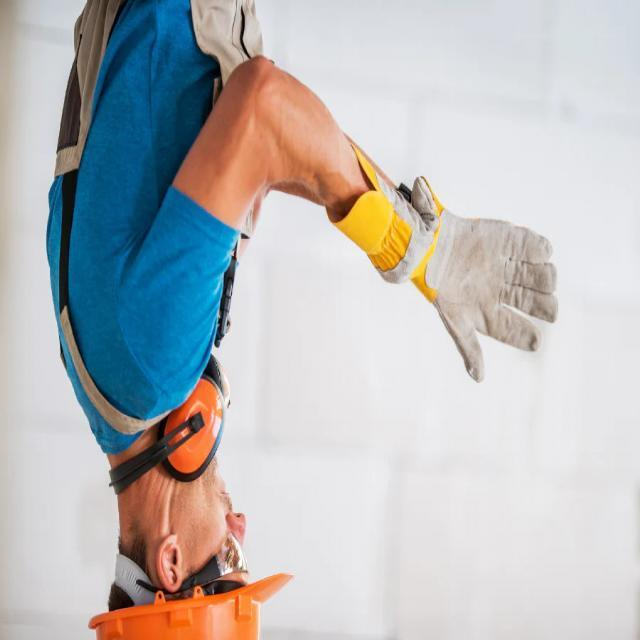Ear-Protection: (147, 365, 246, 488)
Glasses: (181, 536, 251, 582)
Gloves: (437, 218, 557, 384), (323, 148, 438, 288)
Helmet: (90, 576, 296, 640)
